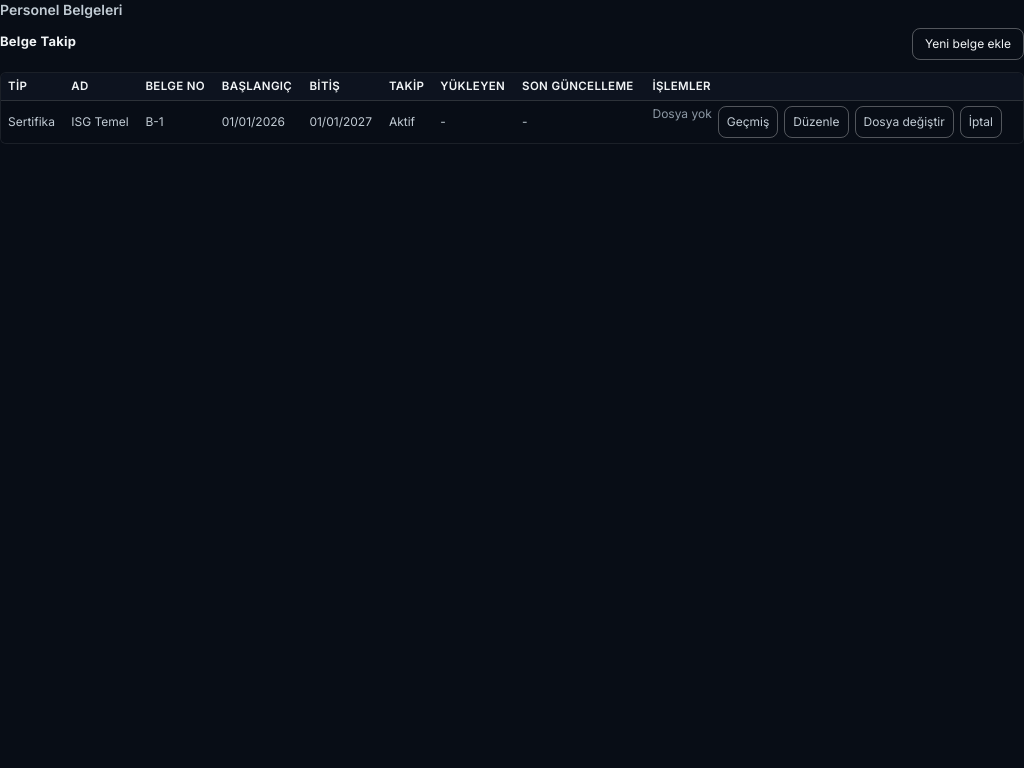
Test: S93-E3C cancel dialog behavior › belge iptal: prompt yerine field dialog açılır ve payload korunur
Click the button with test id "personel-belge-iptal-55".
click(981, 122)  # box top-left (960, 106), bottom-right (1002, 138)
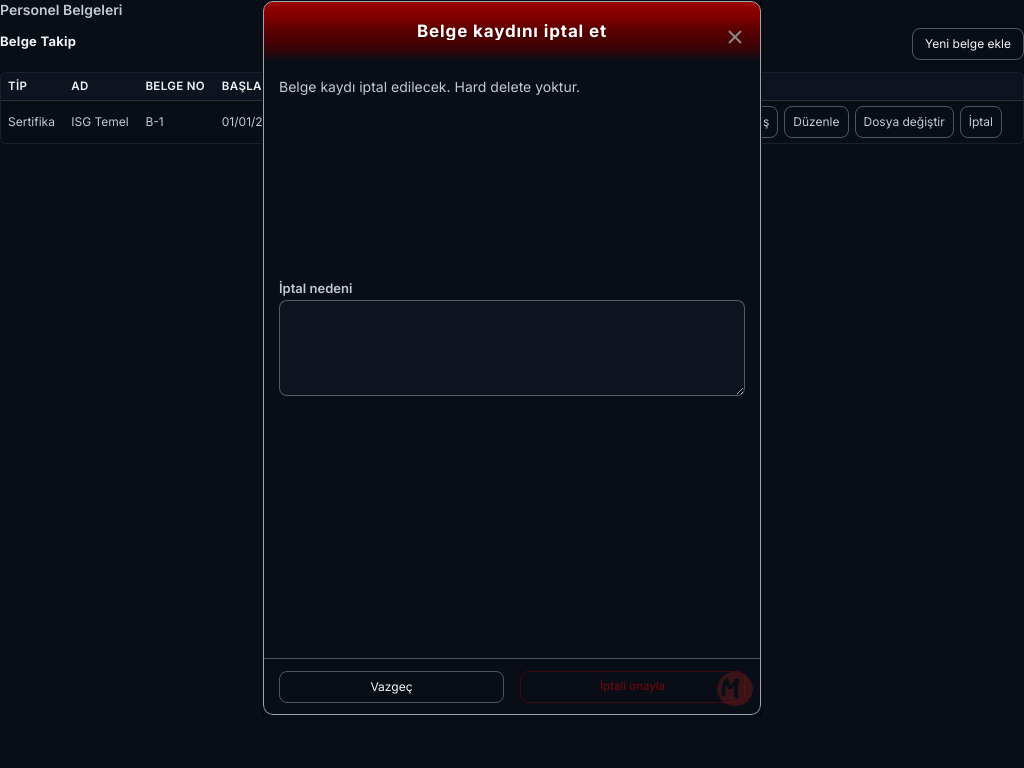
Expected: the element with test id "personel-belge-action-dialog" is shown, top-left (279, 77), bottom-right (745, 566)
Type "E2E iptal nedeni" into the text box labelled "İptal nedeni".
click(512, 348); type("E2E iptal nedeni")  # box top-left (279, 300), bottom-right (745, 396)
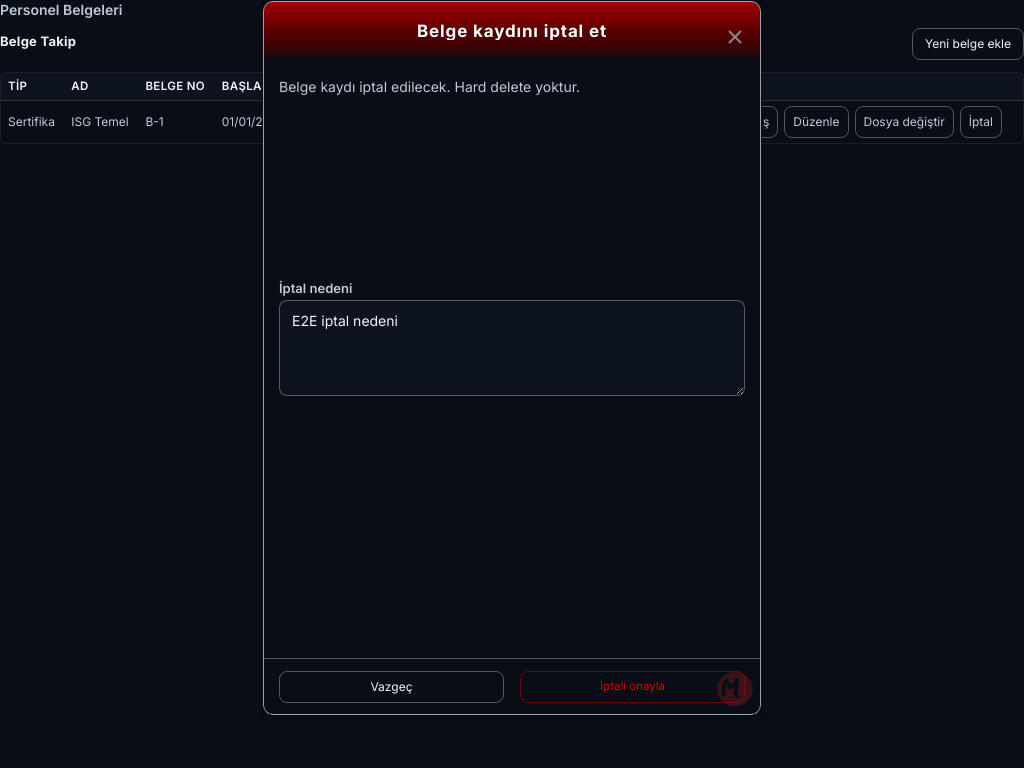
Click the button with test id "personel-belge-action-dialog-confirm".
click(632, 687)  # box top-left (520, 671), bottom-right (745, 703)
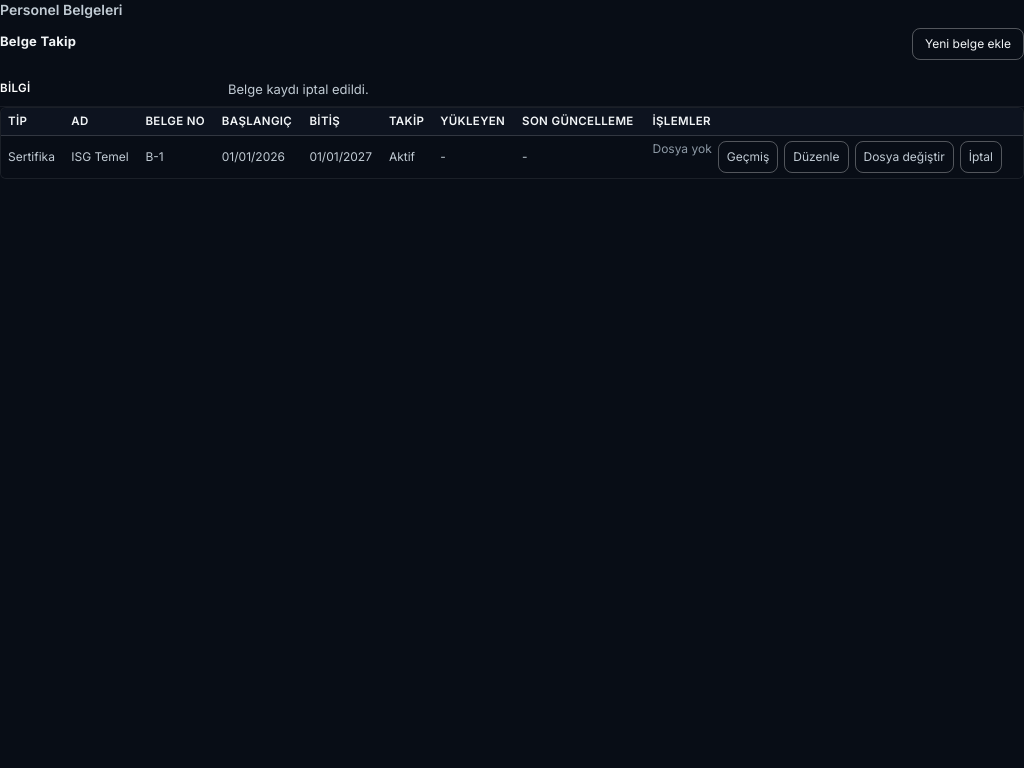
Expected: the element with test id "personel-belge-action-dialog" is gone
